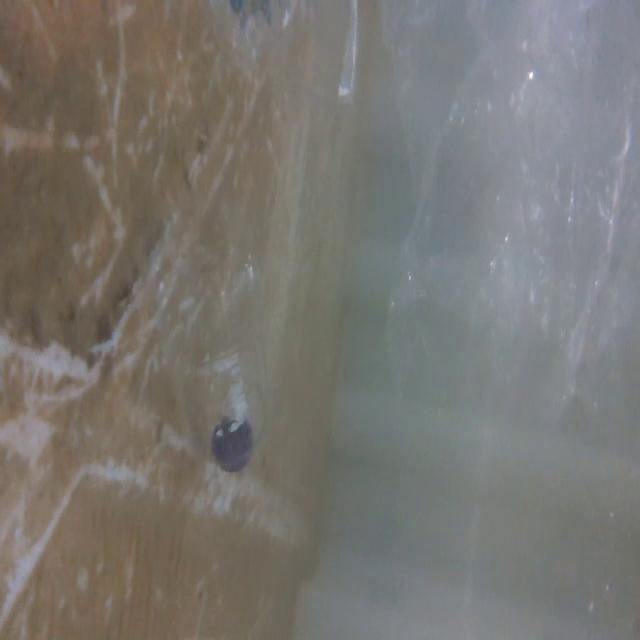plastic bags: (397, 0, 640, 401), (167, 0, 364, 121)
plastic bottle: (143, 222, 278, 488)
